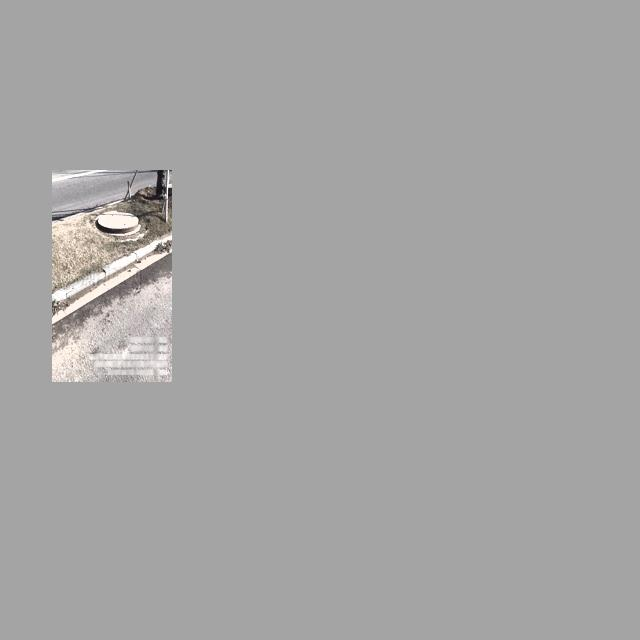uncovered: (97, 210, 141, 235)
